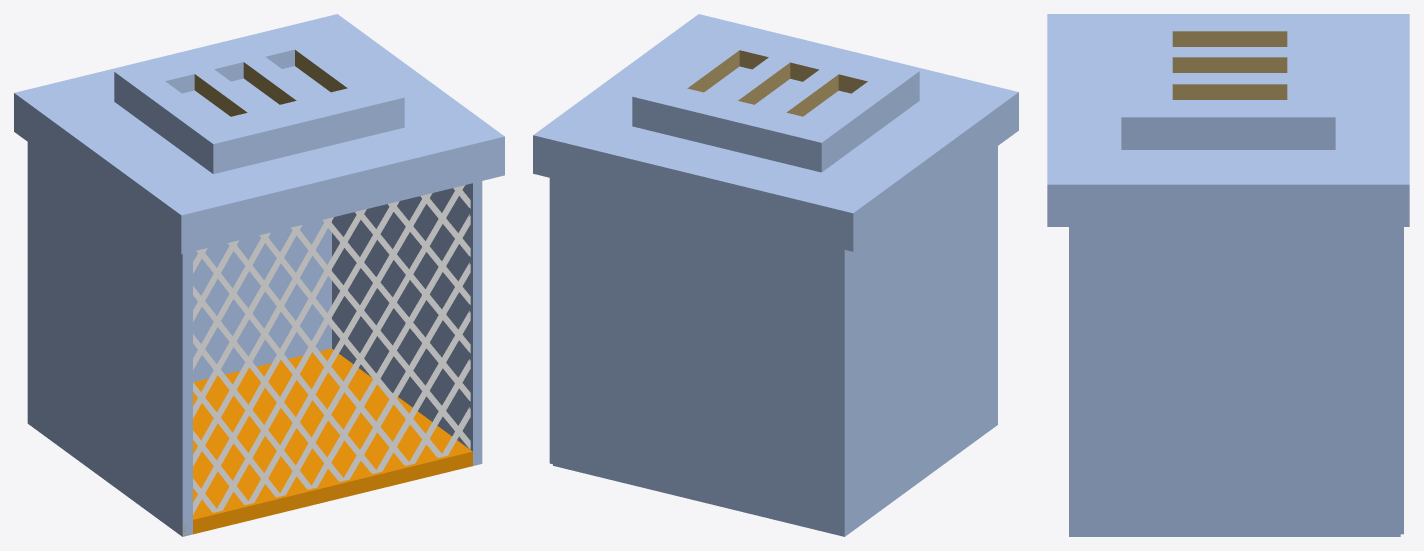
The model's file is telerport_3.fbx.
3 renders of one model, left to right at view 1: azimuth 30°, elevation 25°; view 2: azimuth 150°, elevation 25°; view 3: azimuth 270°, elevation 25°, orthographic. The views are drawn at different scales.
Visible parts, largest first — view 1: polySurface3, telerport_3, polySurface2; view 2: polySurface3; view 3: polySurface3.
Boxes of the visible parts, x1,y1,x2,y2 form: polySurface3: (14, 14, 504, 536); telerport_3: (193, 185, 470, 514); polySurface2: (183, 348, 472, 535); polySurface3: (533, 14, 1018, 536); polySurface3: (1047, 14, 1409, 536).
Size of the model in its own units: 3.13 by 3.34 by 2.81.
Materials: 2 (2 with a texture image).
